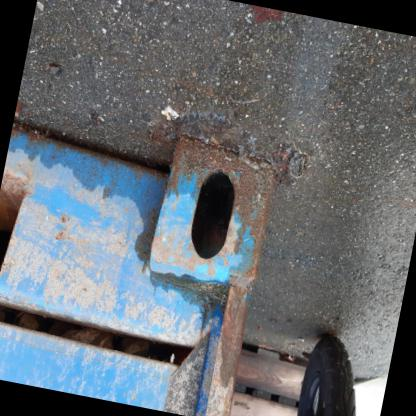CornerCasting: (143, 132, 282, 311)
